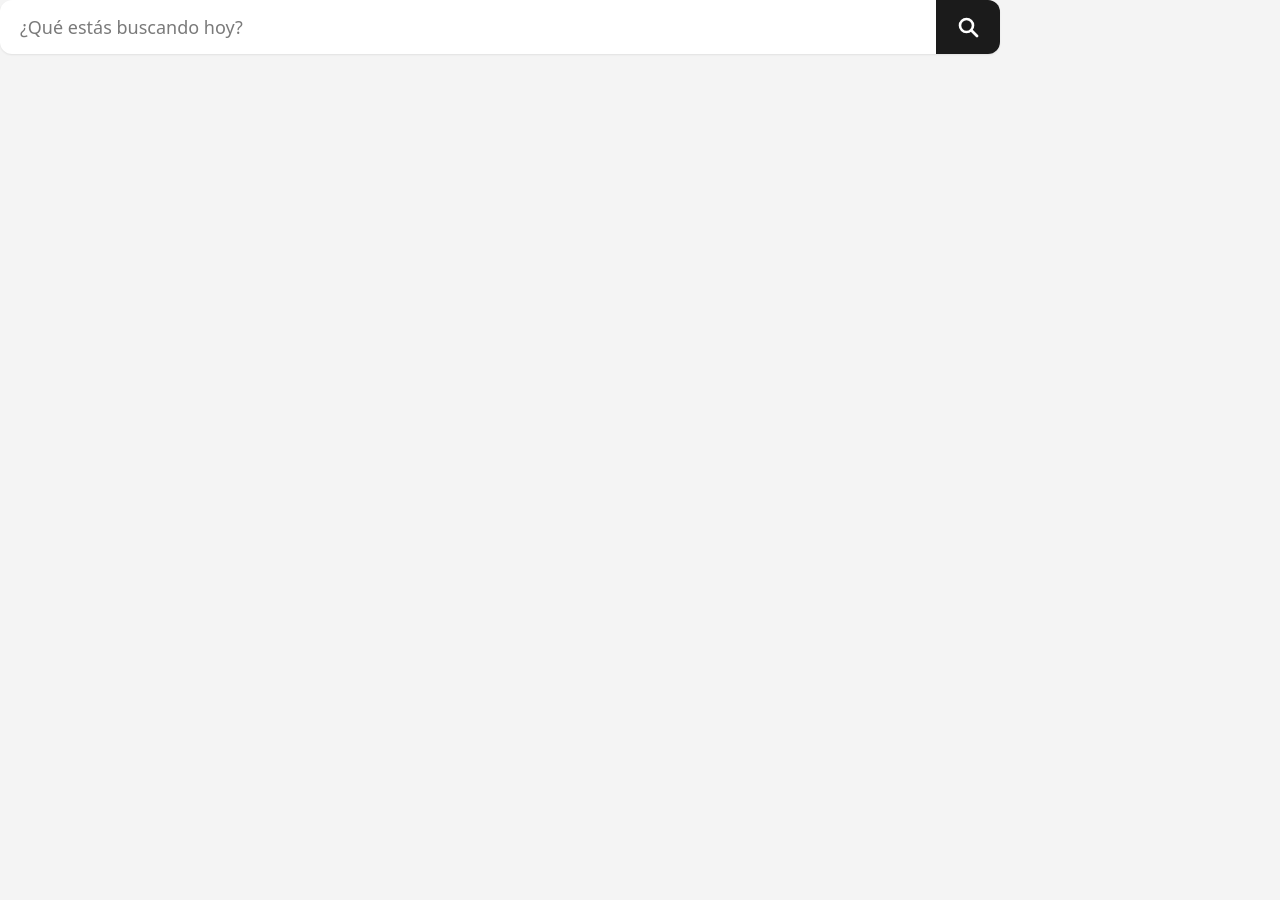
Test: SearchBox › el botón de buscar dispara la búsqueda
In the search field named "Buscar productos": (468, 27) 0,0 -> 936,54, type "shirt"
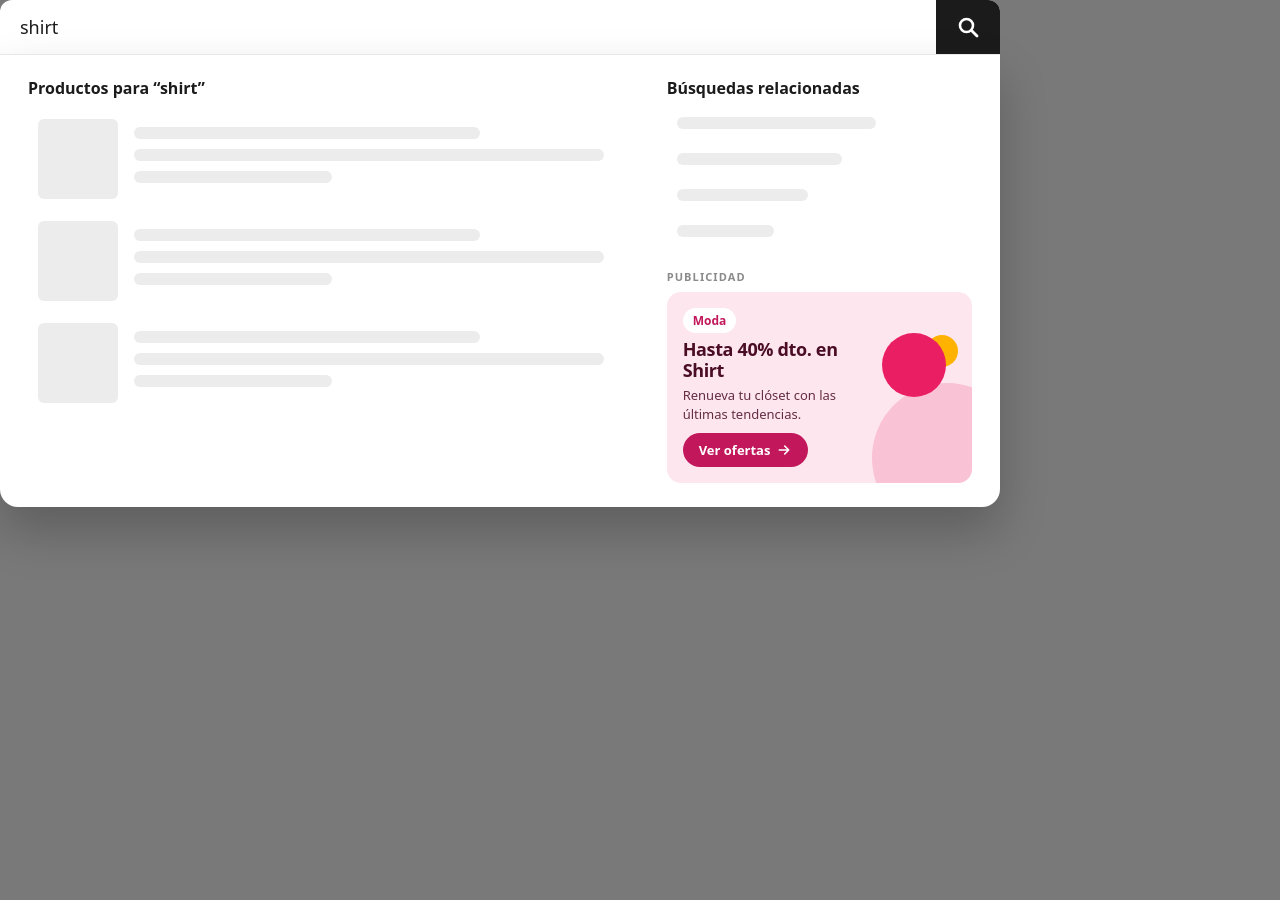
Click the button named "Buscar": (968, 27) 936,0 -> 1000,54
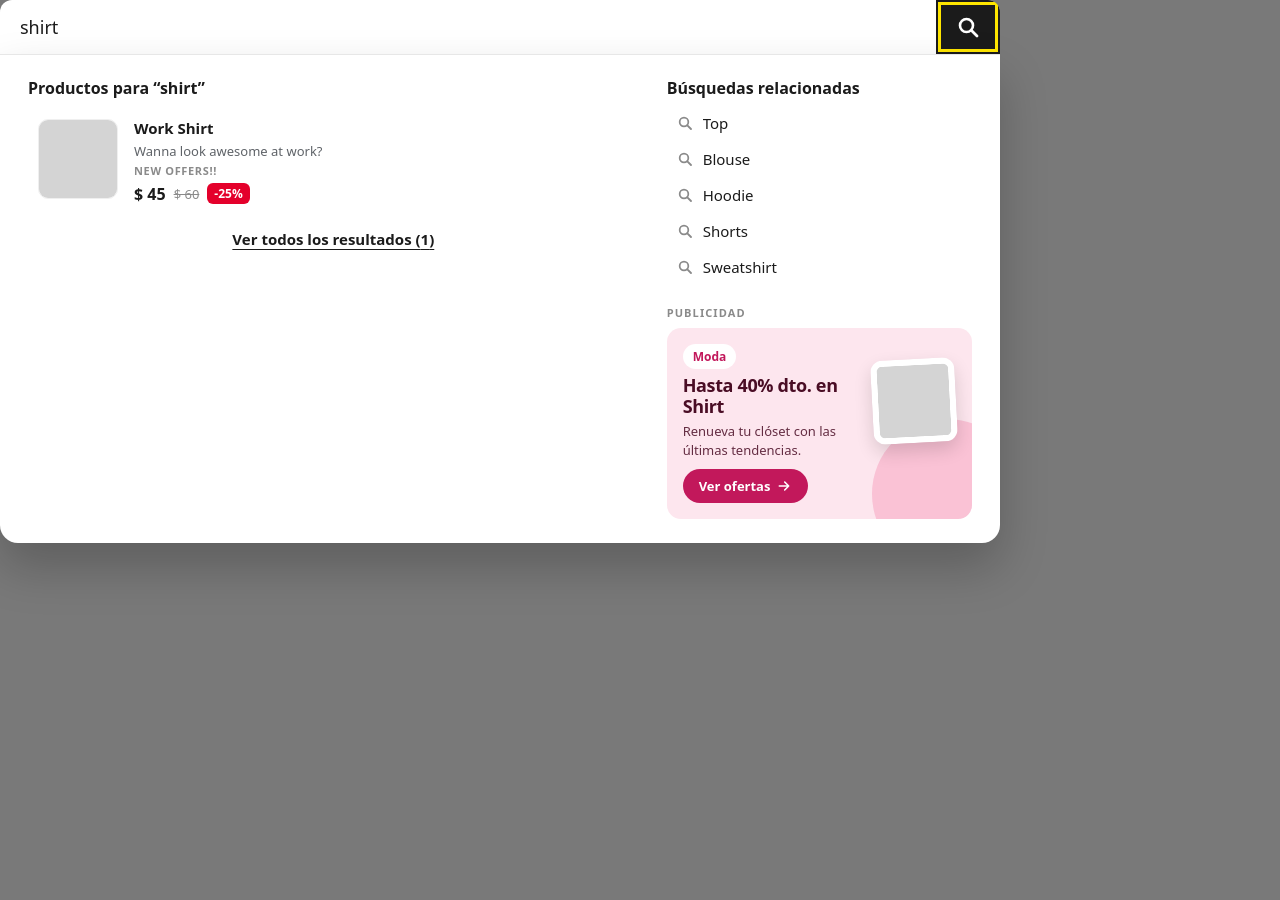
expect the text "Work Shirt" is shown: met, box 134,118 -> 214,138
